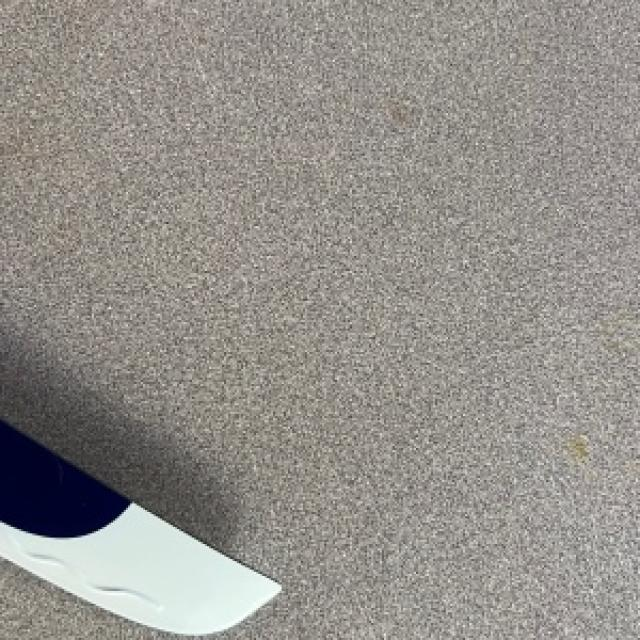healthy: (0, 420, 279, 634)
